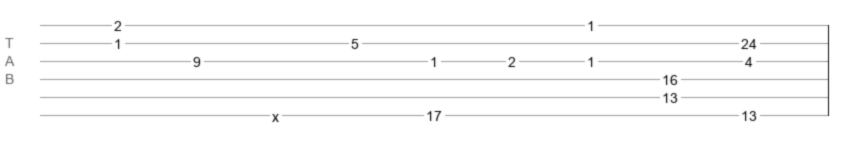1: (114, 36, 122, 46), (430, 54, 438, 64), (587, 54, 595, 64), (587, 18, 595, 28)
13: (662, 90, 678, 100), (741, 108, 757, 118)
16: (662, 72, 678, 82)
17: (426, 108, 442, 118)
2: (114, 18, 122, 28), (508, 54, 516, 64)
24: (741, 36, 757, 46)
4: (745, 54, 753, 64)
5: (351, 36, 359, 46)
9: (193, 54, 201, 64)
x: (272, 109, 279, 117)
